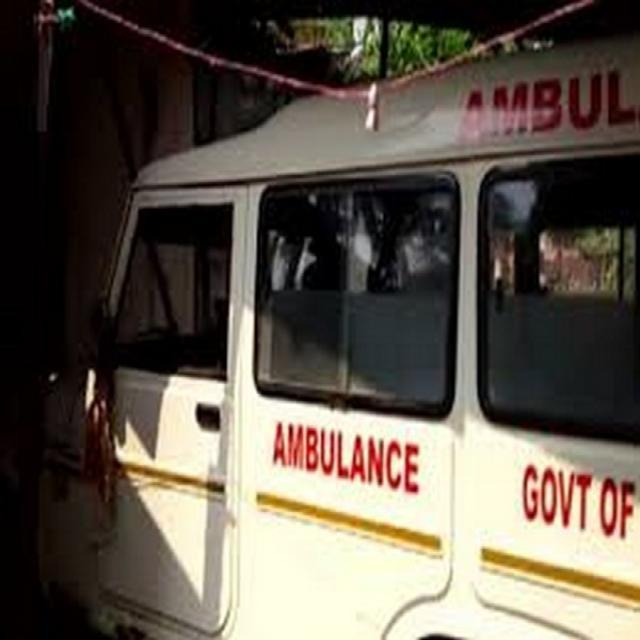ambulance: (55, 44, 640, 640)
